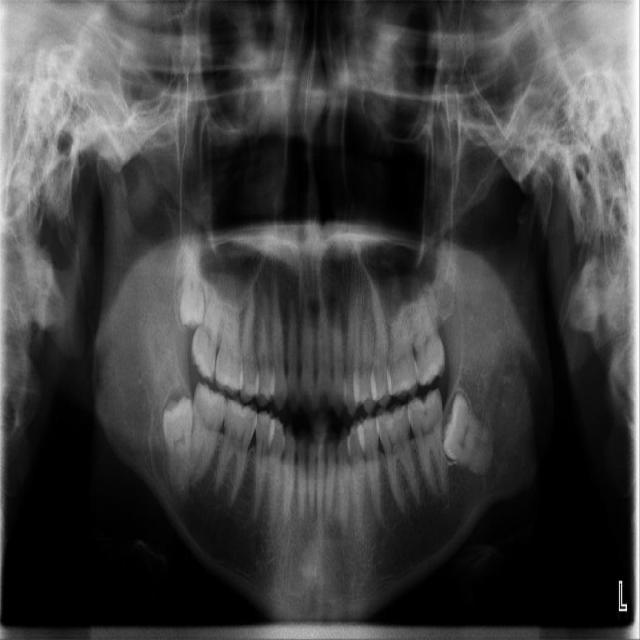3M ESPE Implant: (179, 225, 207, 331)
BioHorizons Implant: (411, 270, 446, 386)
Biomet 3i Implant: (423, 392, 505, 486)
Blue Sky Bio Implant: (405, 388, 450, 497)
Caries: (188, 271, 228, 382)
Implant: (184, 380, 230, 488)
Keystone Dental Implant: (160, 395, 201, 487)
